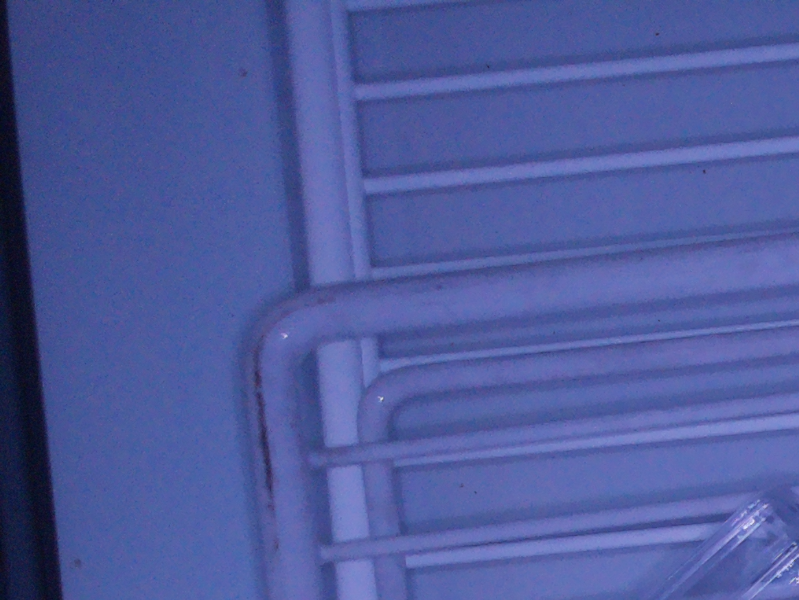plate: (655, 492, 798, 600)
